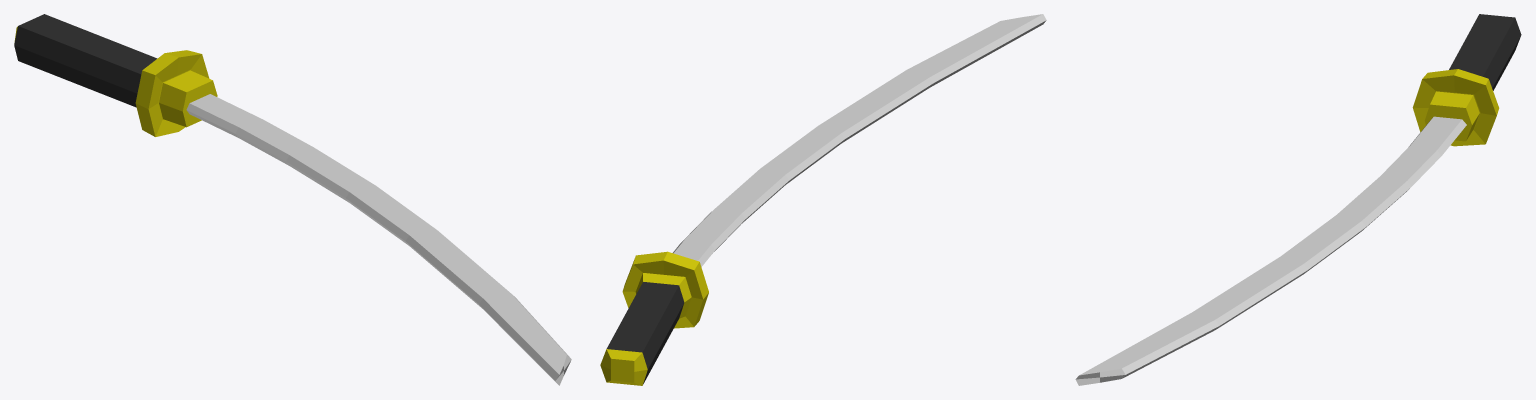
File: katana.glb
The picture shows the model from 3 angles, left to right: view 1: azimuth 30°, elevation 25°; view 2: azimuth 150°, elevation 25°; view 3: azimuth 330°, elevation 25°; orthographic projection. The views are drawn at different scales.
Parts seen in each view (by area): view 1: Cube.001_Cube.002; view 2: Cube.001_Cube.002; view 3: Cube.001_Cube.002.
Boxes of the visible parts, x1=… form: Cube.001_Cube.002: x1=14, y1=14, x2=571, y2=385; Cube.001_Cube.002: x1=600, y1=14, x2=1046, y2=385; Cube.001_Cube.002: x1=1075, y1=14, x2=1521, y2=385.
Bounding box in the file's own units: 0.6507 × 0.3641 × 4.34.
1 material, 1 textured.
